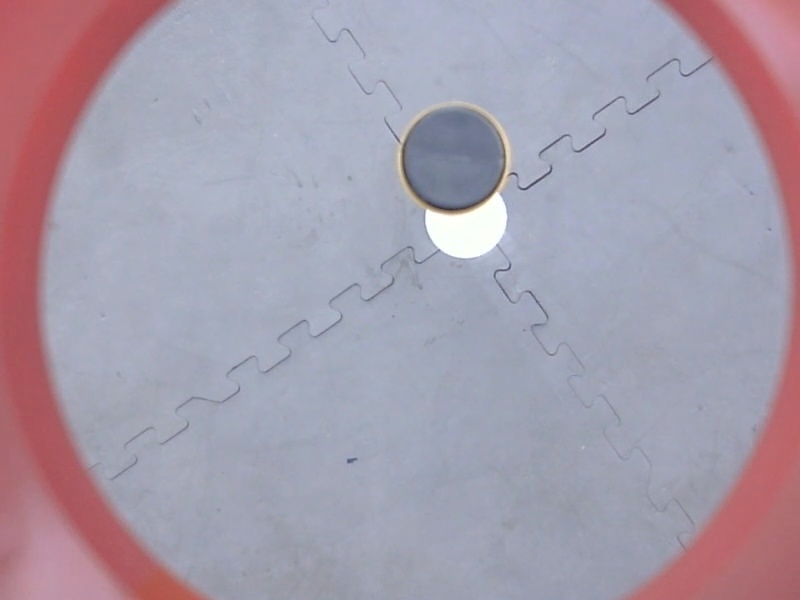tip: (391, 98, 518, 221)
